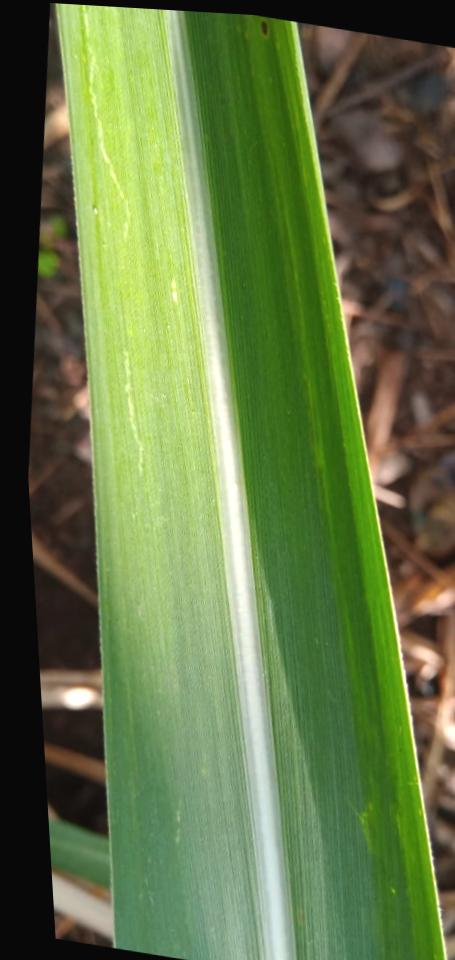Healthy: (56, 3, 443, 960)
